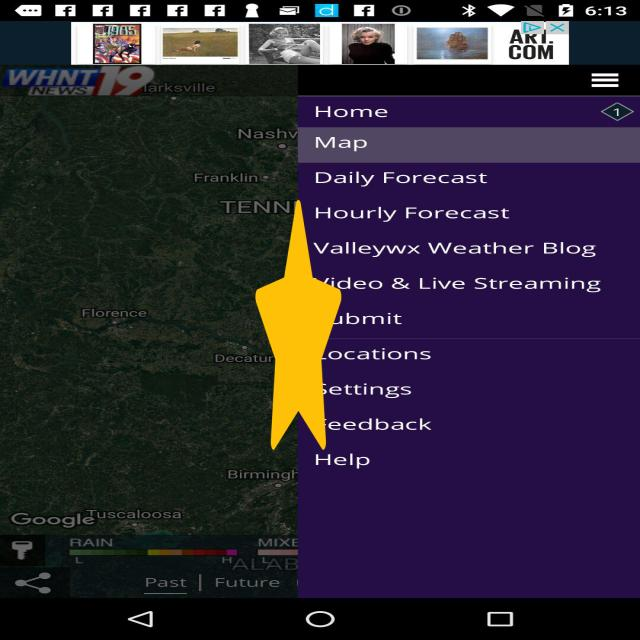forced continuity: (256, 200, 342, 450)
